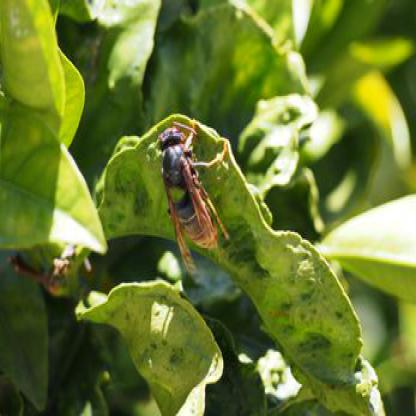Asian Hornet: (150, 117, 224, 278)
